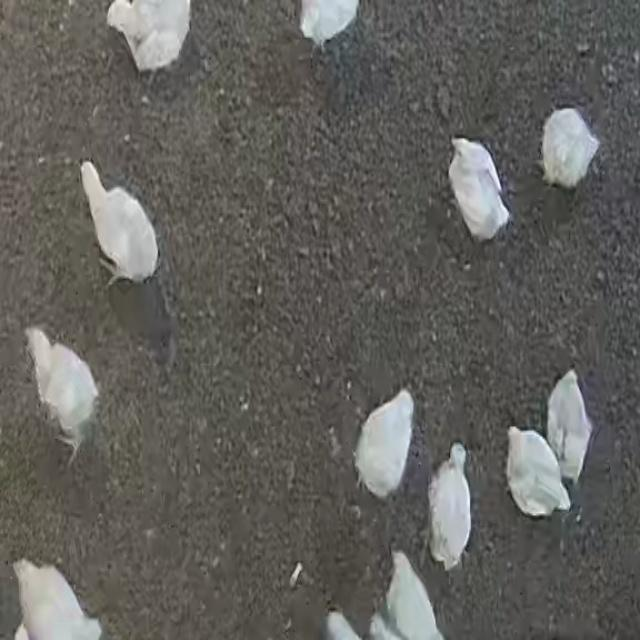chicken: (24, 327, 101, 465), (82, 158, 158, 286), (10, 560, 105, 640), (353, 389, 416, 503), (445, 139, 512, 243), (105, 0, 194, 78), (375, 552, 453, 640), (427, 444, 472, 571), (506, 426, 568, 518), (546, 369, 592, 492), (538, 105, 602, 190), (297, 1, 360, 57)
